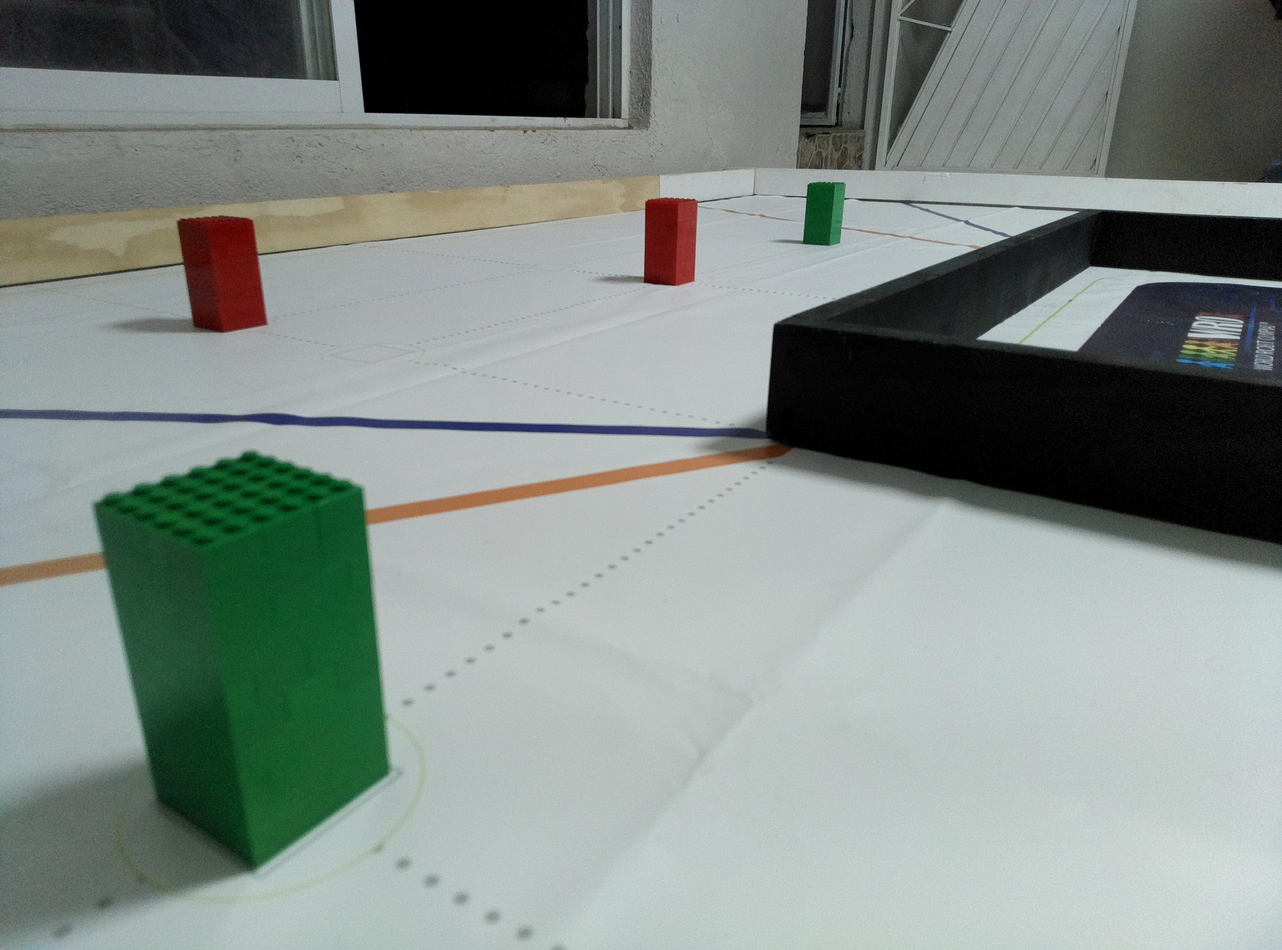greenbox: (87, 447, 413, 872), (802, 181, 846, 246)
redbox: (176, 214, 271, 334), (643, 197, 698, 285)
